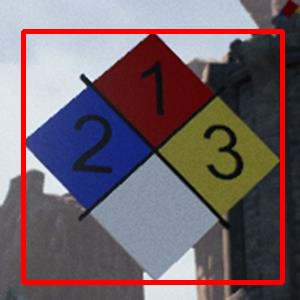nfpa: (23, 31, 282, 282)
